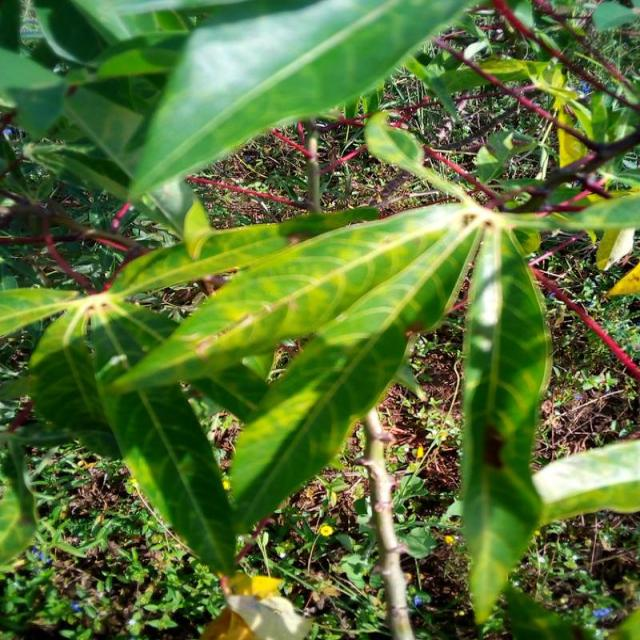cassava leaf: (1, 1, 638, 630), (101, 198, 486, 536), (124, 0, 476, 213), (459, 219, 554, 626)
